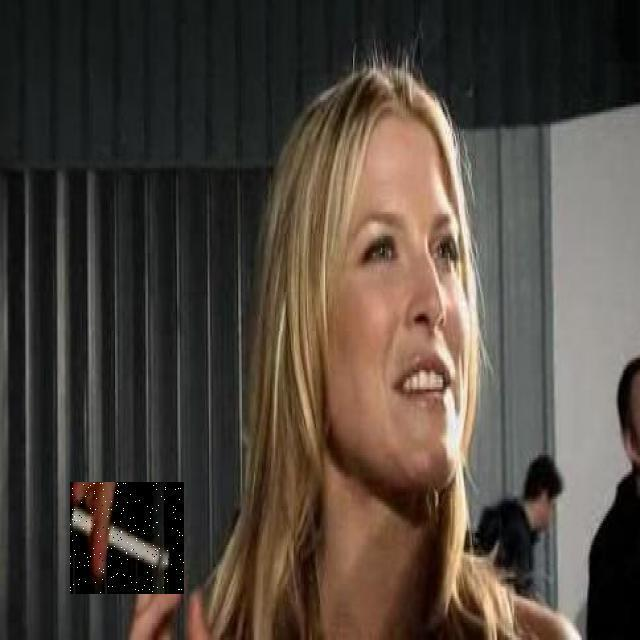smoking: (70, 482, 184, 594)
